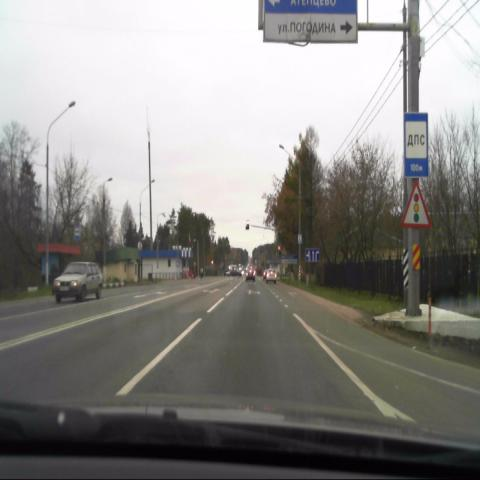1_8: (403, 179, 430, 229)
7_12: (404, 113, 428, 178)
